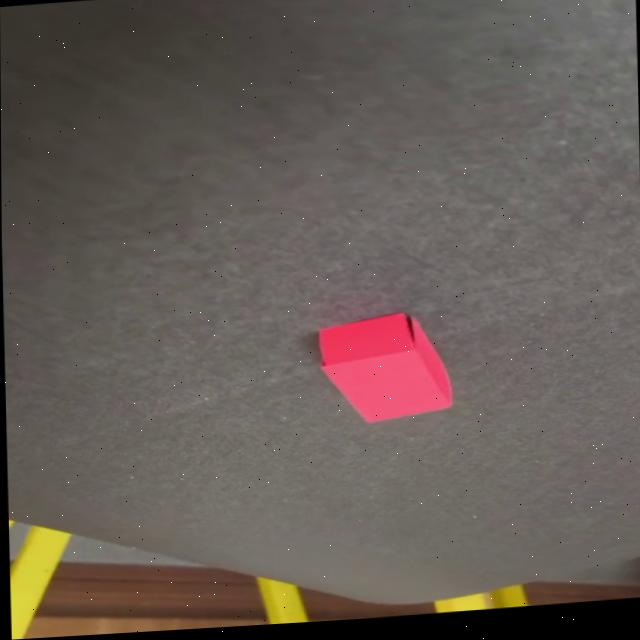red block: (313, 307, 452, 428)
